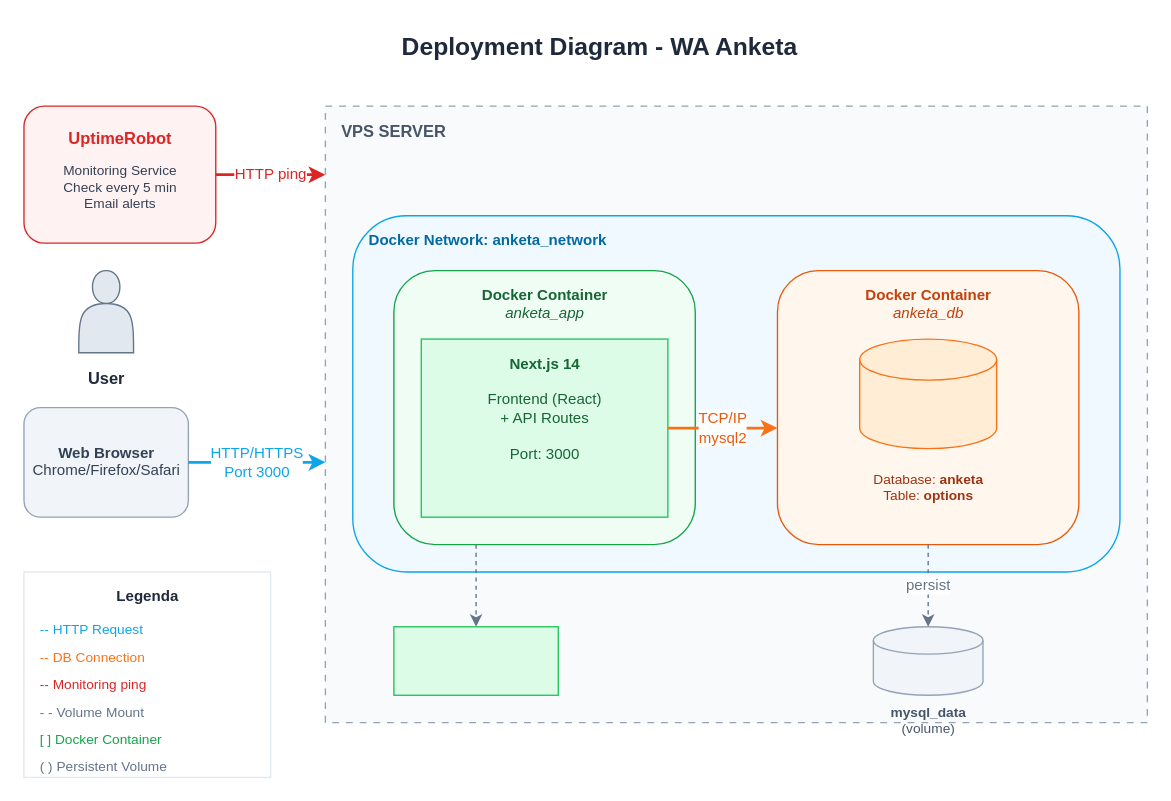
This 1171x801 diagram has some shape labels left out. Here are the shapes that lost their labels. From the top down, the centre of each, then its label:
At (927,393): "MySQL 8.0 Port: 3306".
At (475,660): "localhost:3000 (exposed)".
